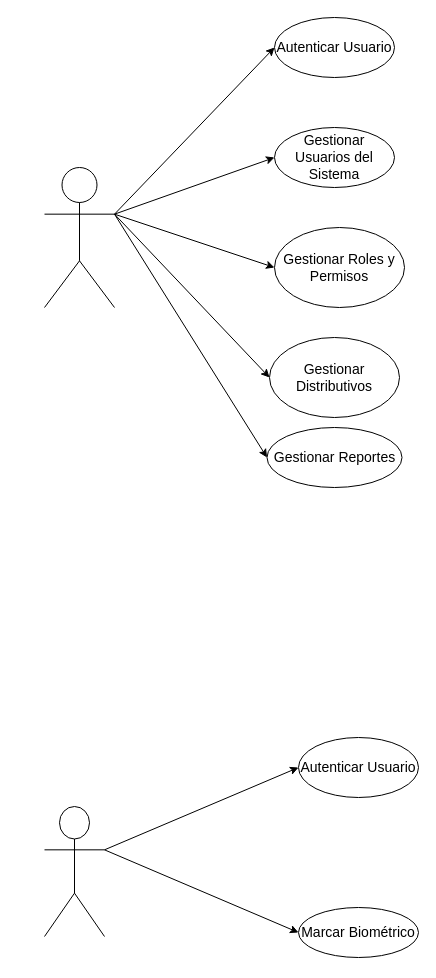
Some shapes in this 436 by 978 pixel diagram are drawn without their labels. Here are the shapes that lost their labels. From the top down, the centre of each, then its label:
[79,237]: Personal administrativo
[74,871]: Docente Inivitado
